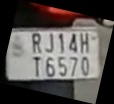character: (45, 55, 55, 77), (79, 56, 89, 77), (31, 32, 41, 52), (67, 33, 77, 53), (57, 56, 67, 76), (79, 32, 88, 53), (33, 55, 41, 77), (69, 55, 77, 77), (45, 32, 53, 52), (57, 31, 64, 53)
